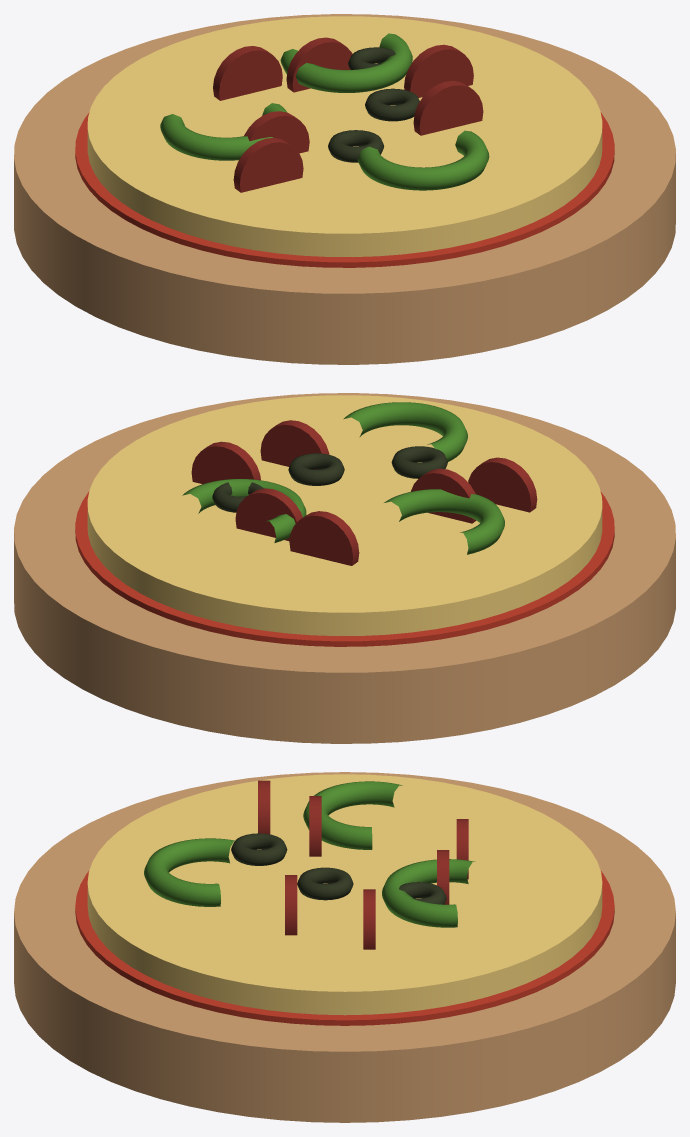
The model's file is pizza.glb.
3 renders of one model, top to bottom at view 1: azimuth 30°, elevation 25°; view 2: azimuth 150°, elevation 25°; view 3: azimuth 270°, elevation 25°, orthographic.
Size of what is drawn, in the model's own units: 2.48 by 0.5888 by 2.48.
